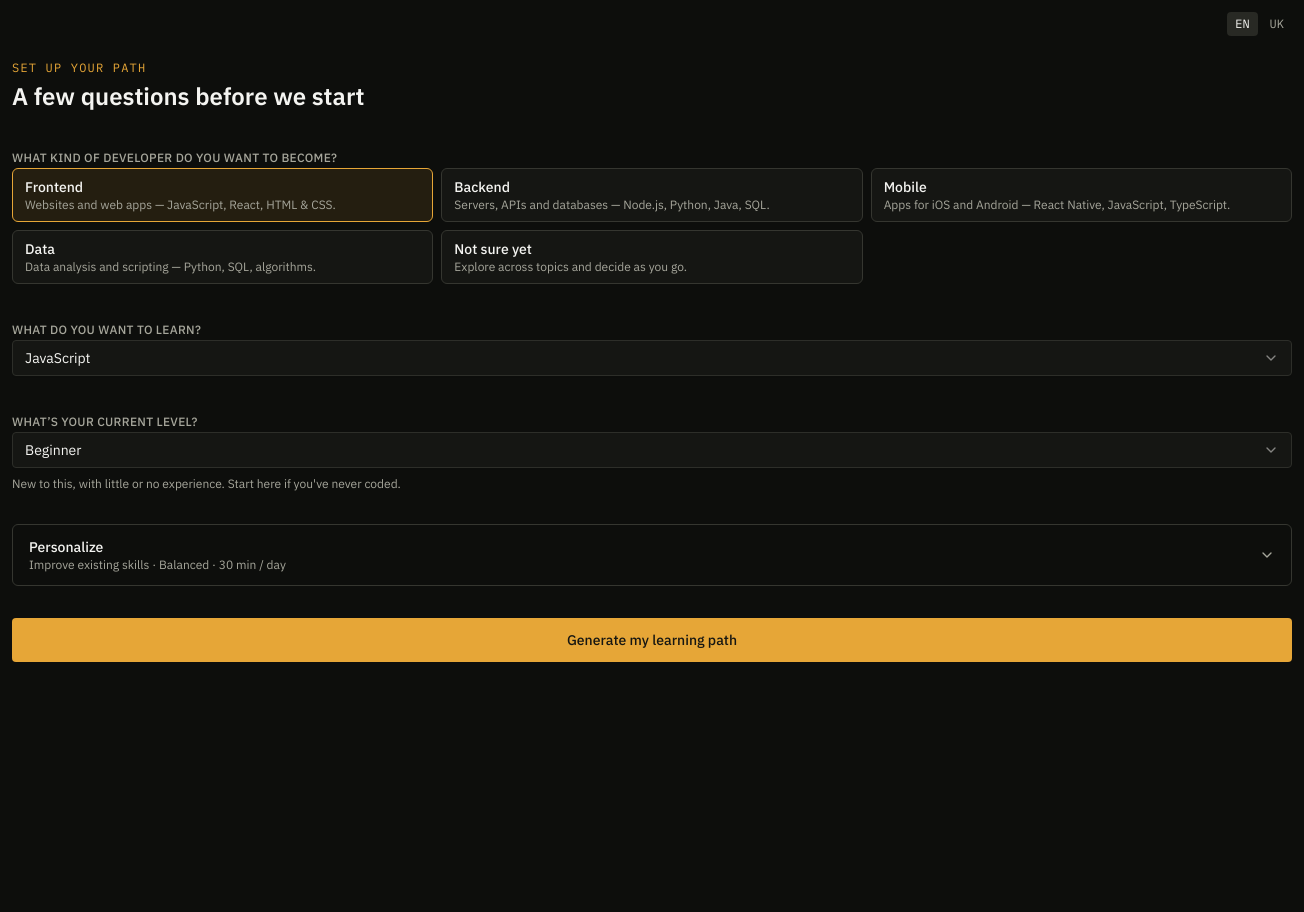
Test case: OnboardingFlow: what each level means › explains the selected level under the picker, and points a first-timer away from the quiz
The image size is (1304, 912).
Check: the text "Start here if you've never coded" is shown, box [12, 476, 401, 491]
Click the dropdown labelled "Beginner" at (53, 450), box [12, 432, 1292, 468]
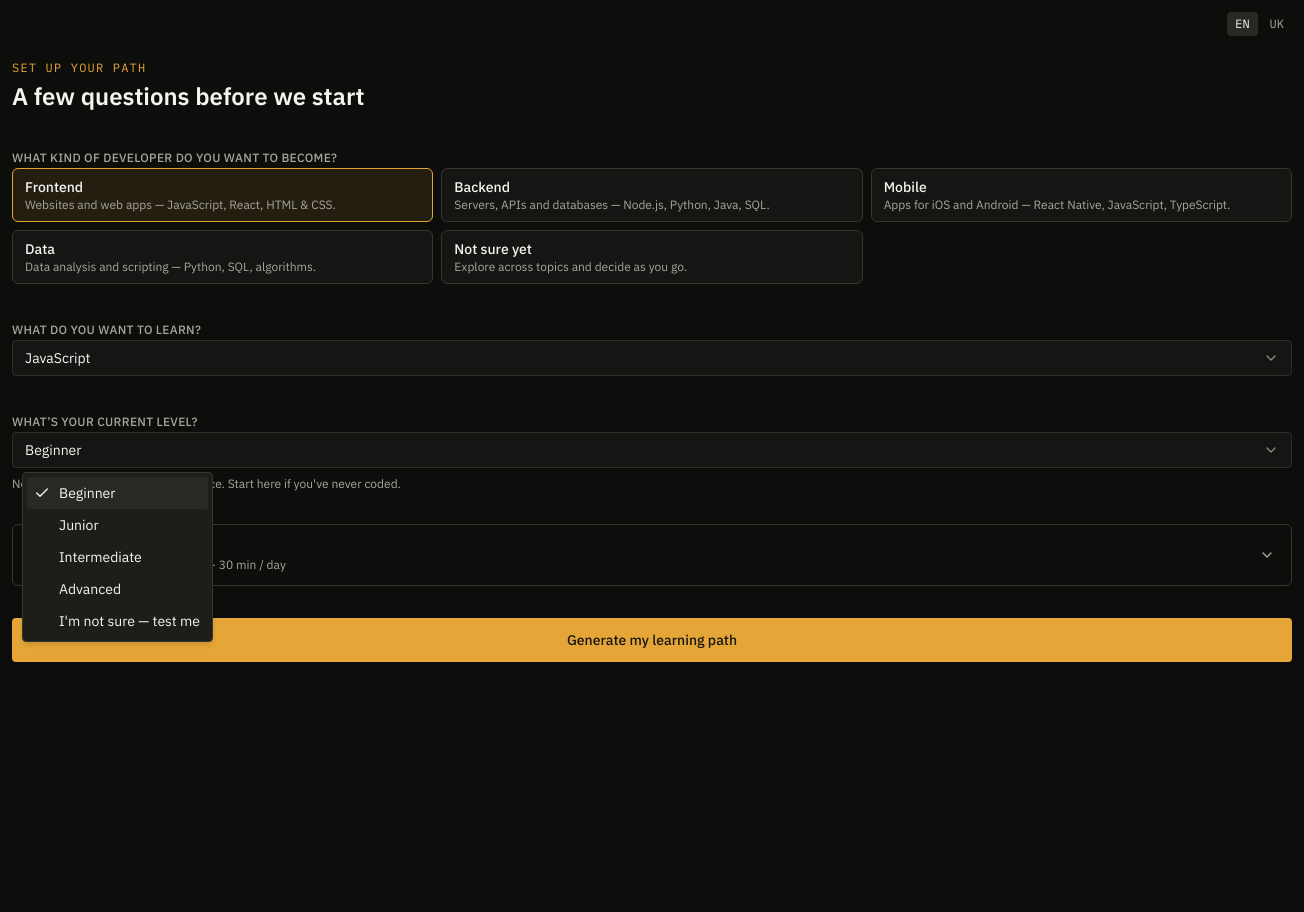
Click the option "I'm not sure — test me" at (130, 621), box [59, 612, 200, 630]
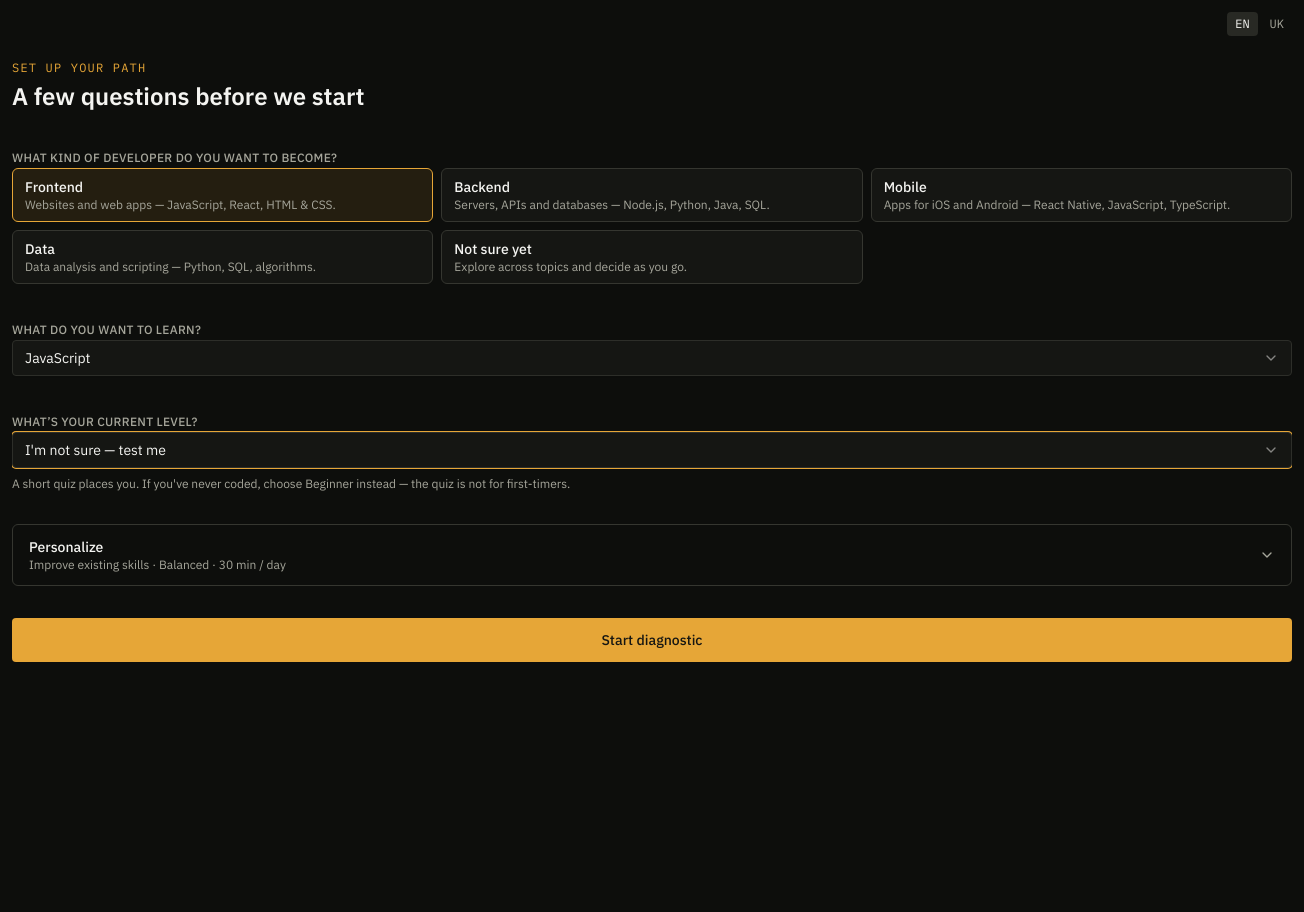
Check: the list is gone
Check: the text "Start here if you've never coded" is gone
Check: the text "If you've never coded, choose Beginner instead" is shown, box [12, 476, 570, 491]
